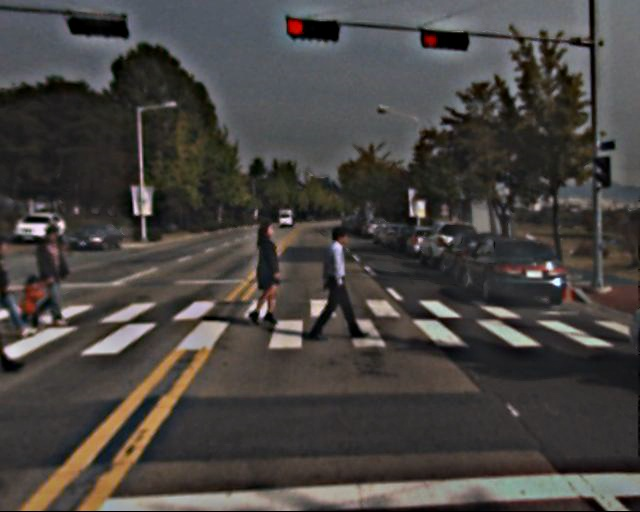person: (319, 230, 364, 339), (37, 223, 80, 327), (246, 220, 289, 324)
